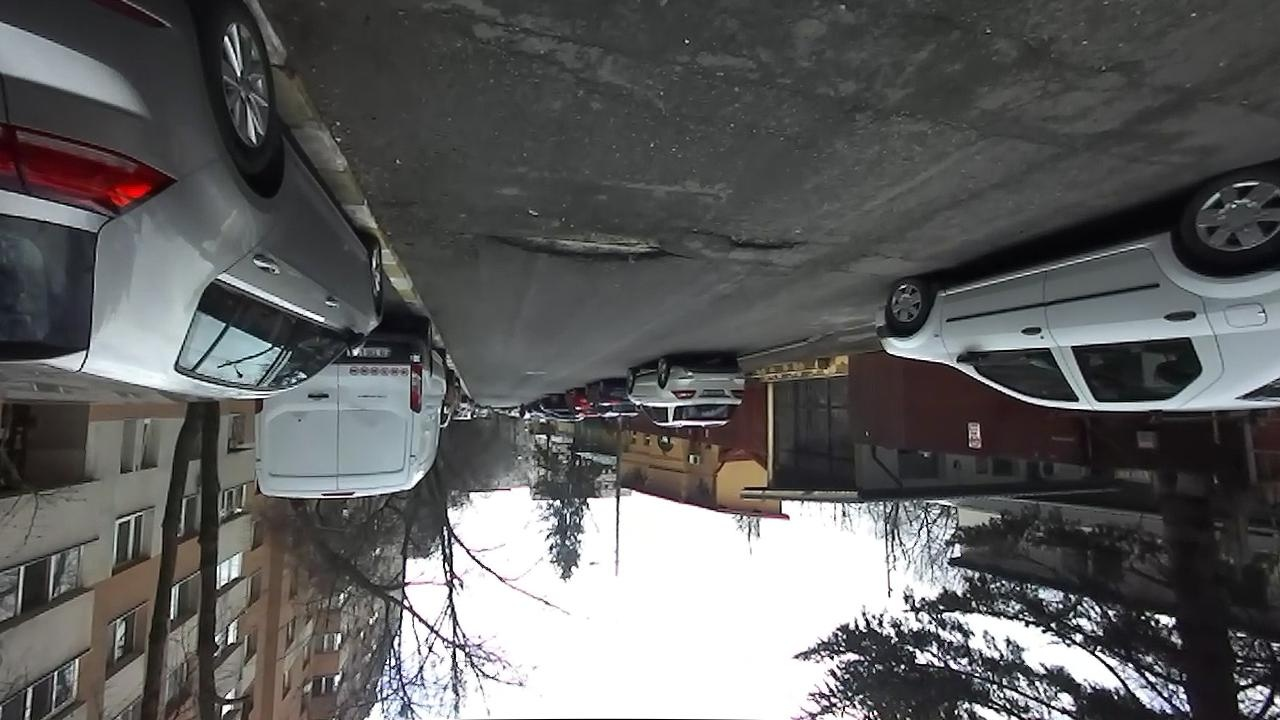pothole: (483, 222, 685, 265), (701, 225, 809, 254)
